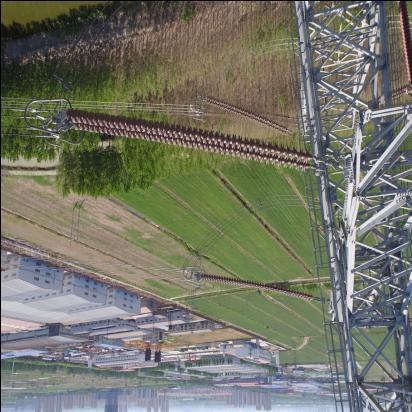insulator: (60, 111, 327, 173), (199, 274, 319, 303), (200, 100, 296, 130)
